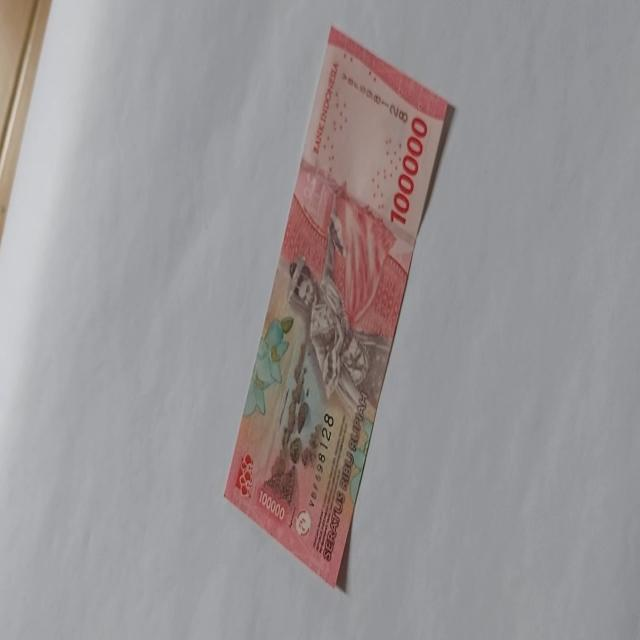seratus ribu rupiah: (222, 24, 454, 590)
